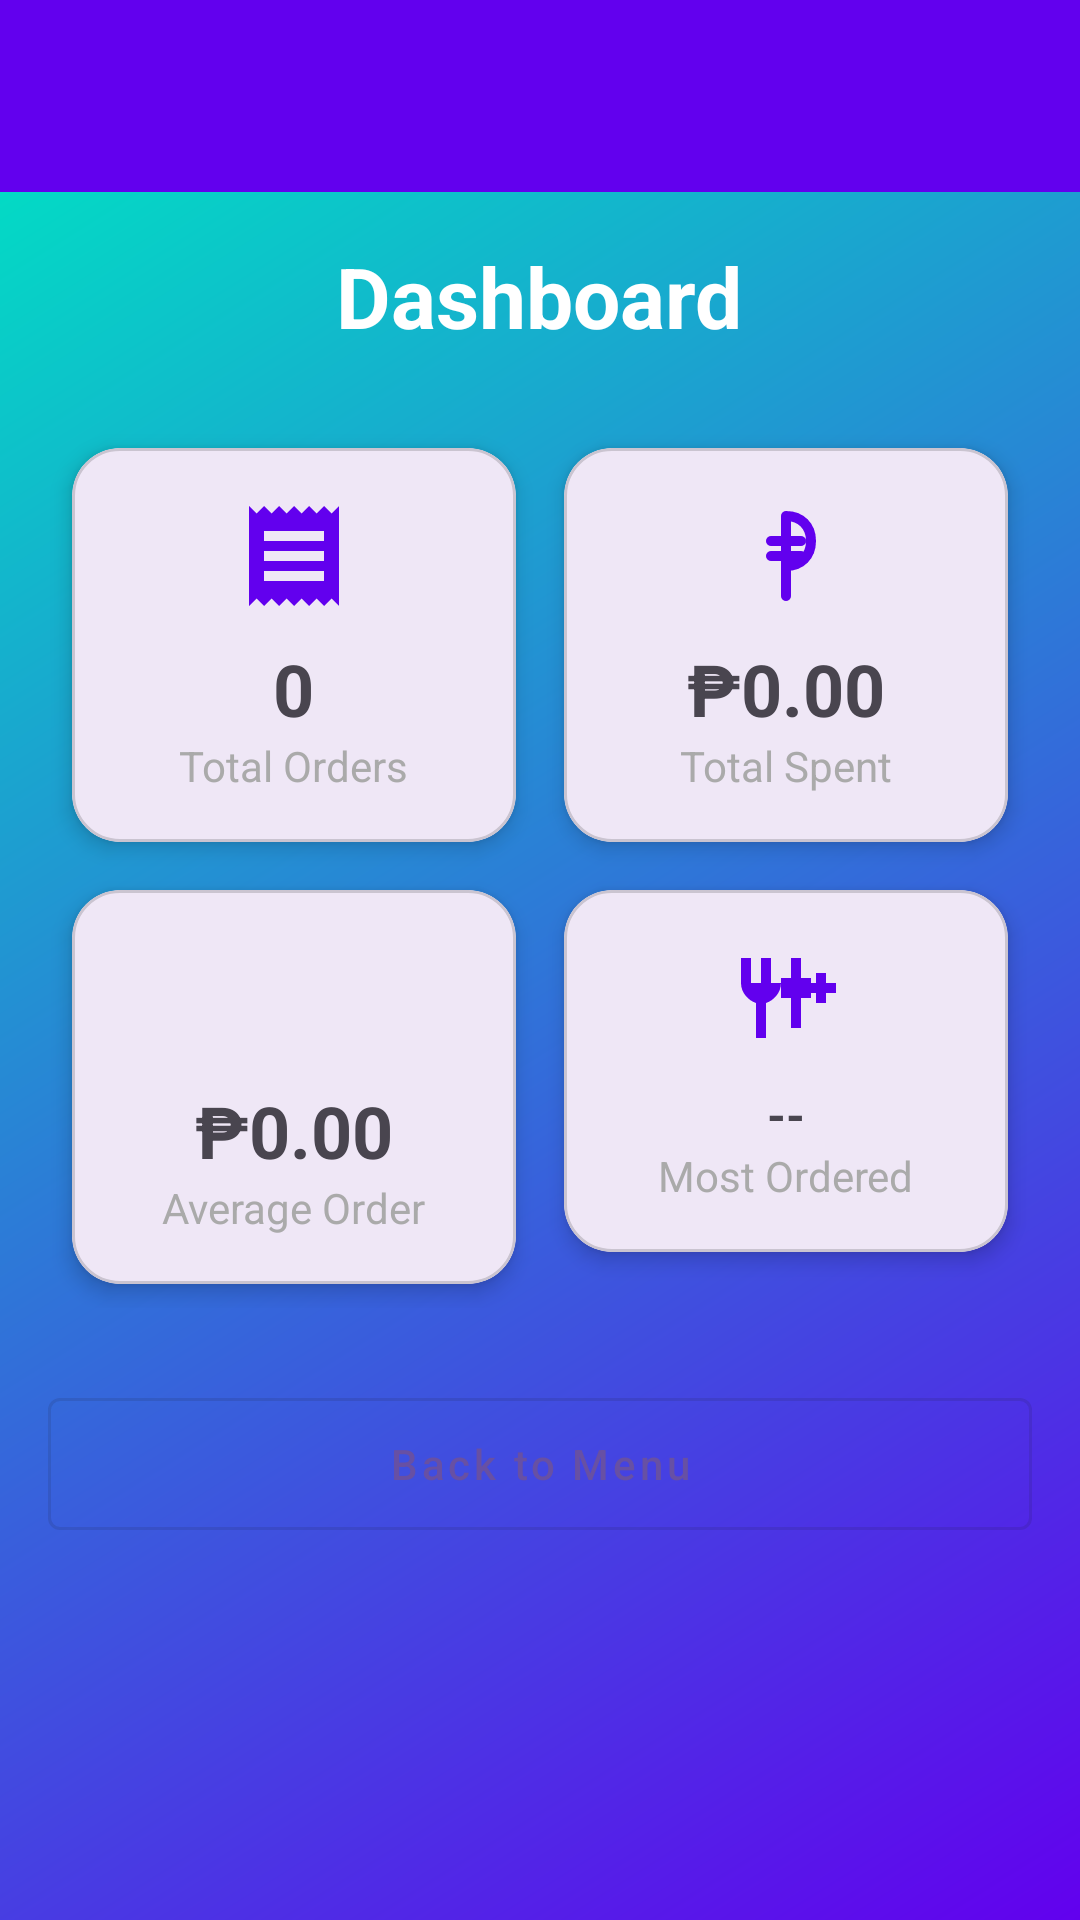

Locate icon controls on the screen. Image size 1080×1920, boxes as (x1, y1, x2, y2).
currency: (766, 511, 816, 601)
receipt: (249, 506, 339, 606)
